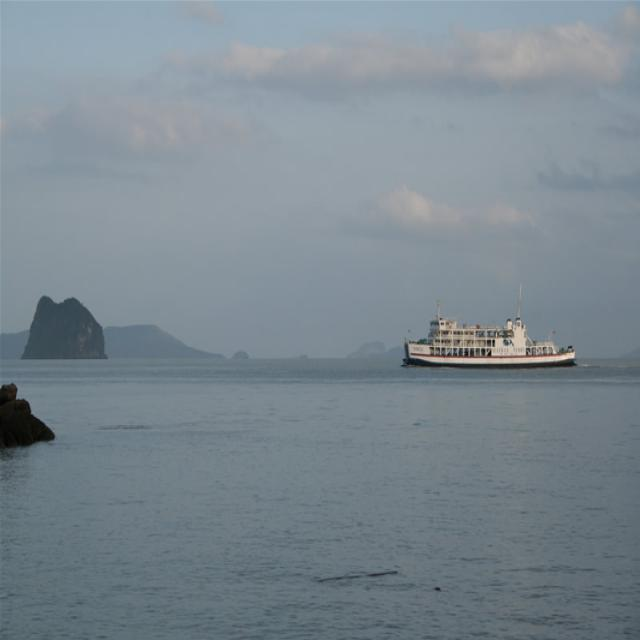houseboat: (386, 290, 587, 372)
